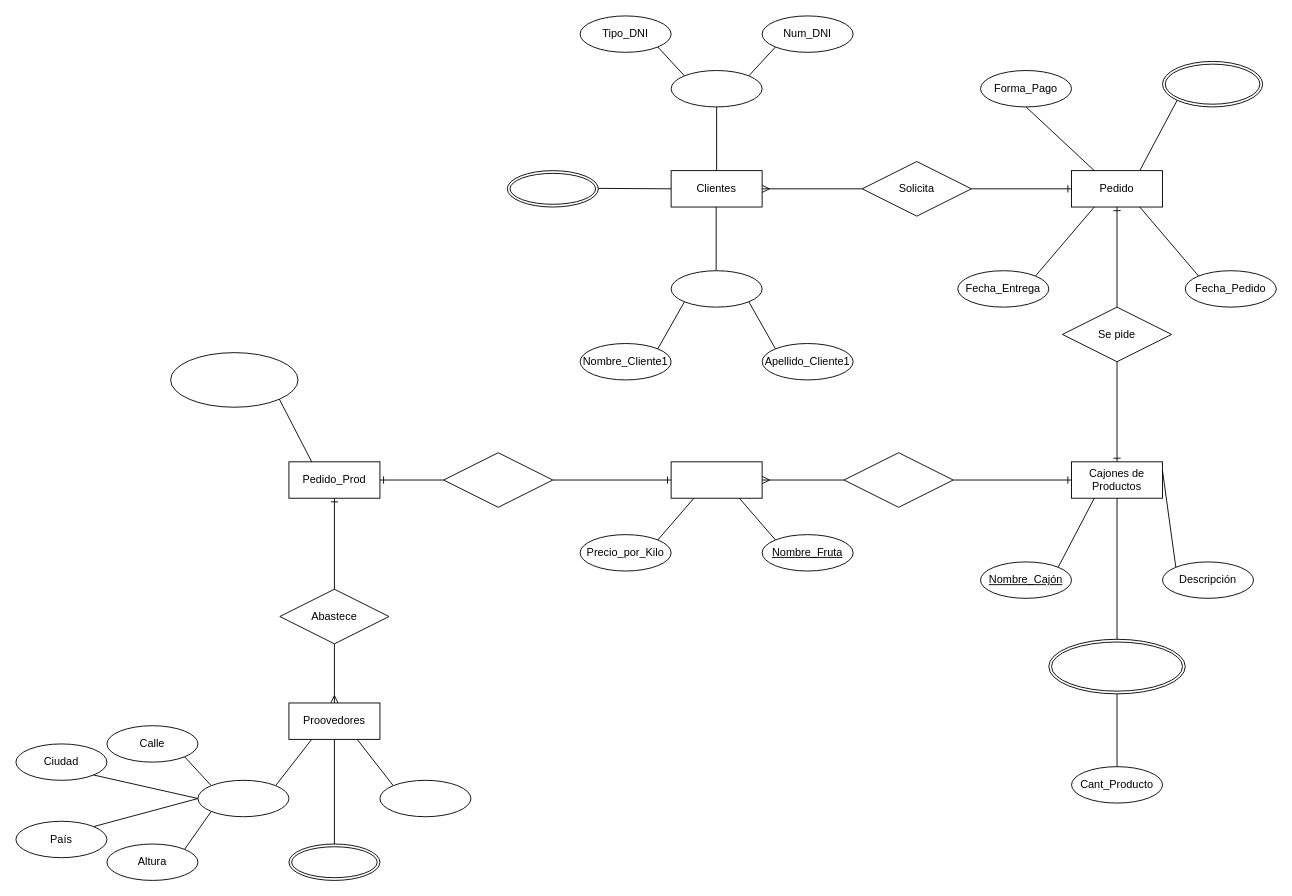
The diagram is 1292 pixels wide and 896 high, and some of its shapes have lost their labels. Here are the shapes that lost their labels. From the top down, the centre of each, then its label:
At pixel 716 88: "DNI".
At pixel 1212 84: "Registro_Pedidos".
At pixel 552 188: "Attribute".
At pixel 716 288: "Nombre_Cliente".
At pixel 234 379: "Nombre_Prod_Faltante".
At pixel 498 479: "Realizar".
At pixel 716 479: "Producto".
At pixel 898 479: "Contiene".
At pixel 1116 666: "Productos_en_el_Cajón".
At pixel 243 798: "Domicilio".
At pixel 425 798: "Nombre_Prov".
At pixel 334 861: "Días_Reparto".
